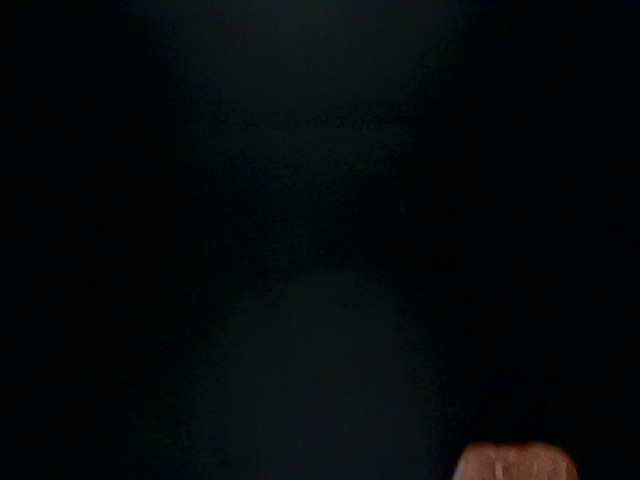KHSLJ: (74, 1, 434, 242)
